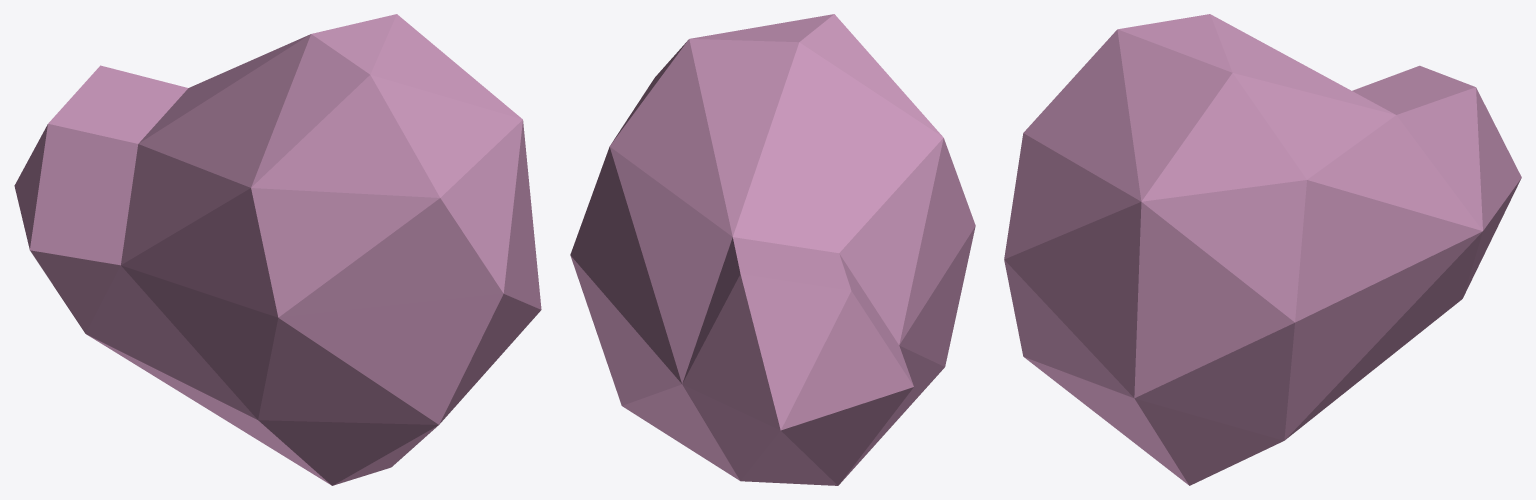
The model's file is 01_01Rock_Purple.fbx.
3 renders of one model, left to right at view 1: azimuth 30°, elevation 25°; view 2: azimuth 150°, elevation 25°; view 3: azimuth 270°, elevation 25°, orthographic. The views are drawn at different scales.
Parts seen in each view (by area): view 1: Icosphere.022; view 2: Icosphere.022; view 3: Icosphere.022.
Boxes of the visible parts, <box> form: Icosphere.022: <box>14,14,541,485</box>; Icosphere.022: <box>570,14,975,485</box>; Icosphere.022: <box>1004,14,1521,485</box>.
Bounding box in the file's own units: 116 × 126 × 135.
